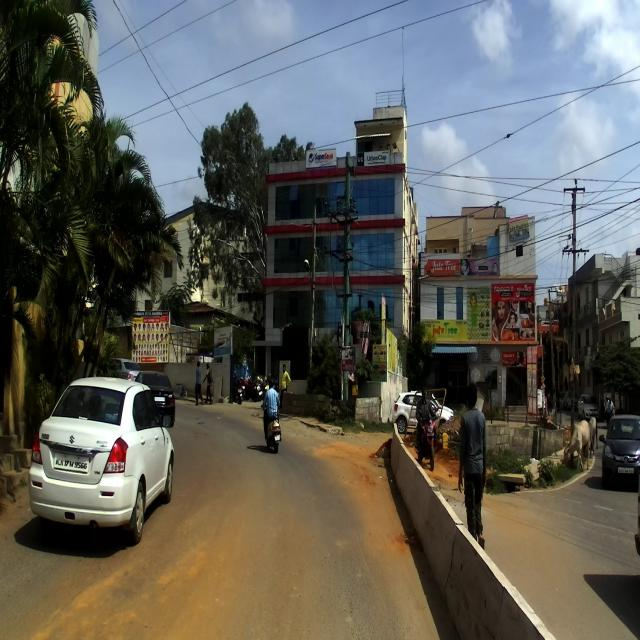Car_Maruti-Suzuki: (28, 376, 174, 544)
motorcycle: (412, 405, 439, 472)
